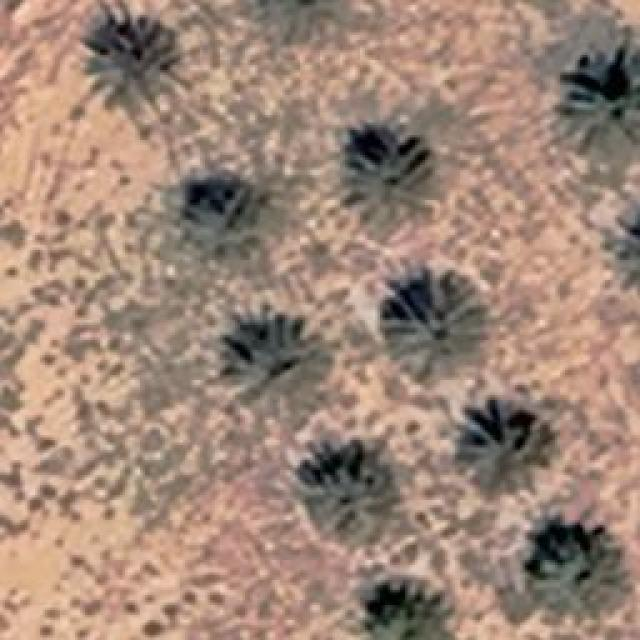PalmTree: (79, 57, 600, 108), (382, 272, 488, 380), (340, 130, 442, 238), (82, 12, 188, 112), (222, 310, 336, 400), (455, 398, 550, 498), (530, 532, 630, 618), (104, 23, 294, 57), (307, 460, 395, 530), (352, 578, 452, 638), (182, 190, 262, 262), (600, 202, 638, 290)
